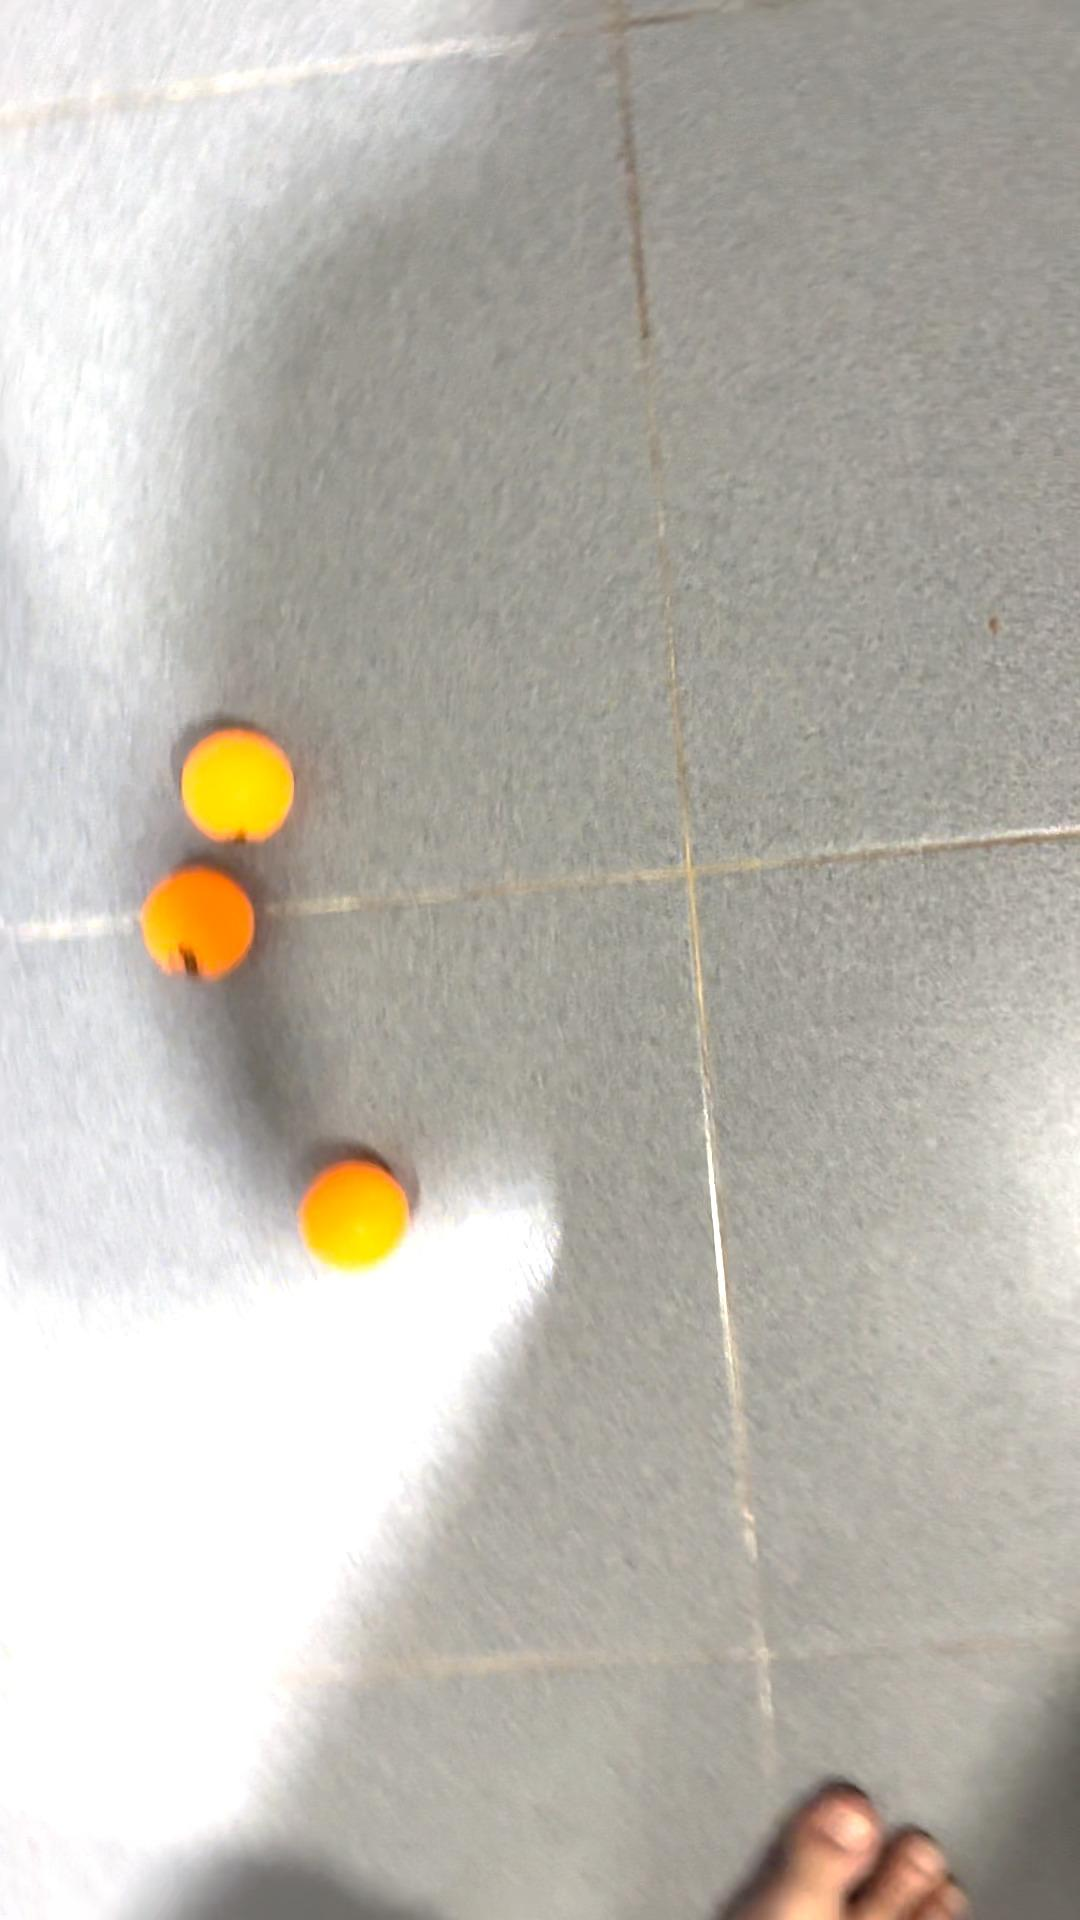oball: (171, 714, 313, 848), (294, 1138, 417, 1273), (143, 870, 266, 999)
